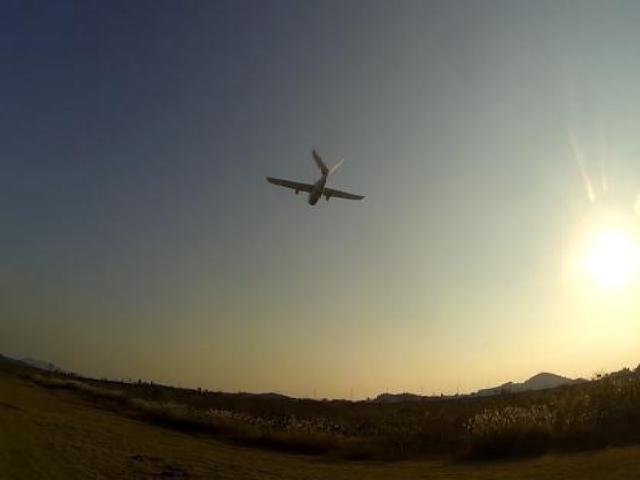uav: (259, 140, 370, 214)
